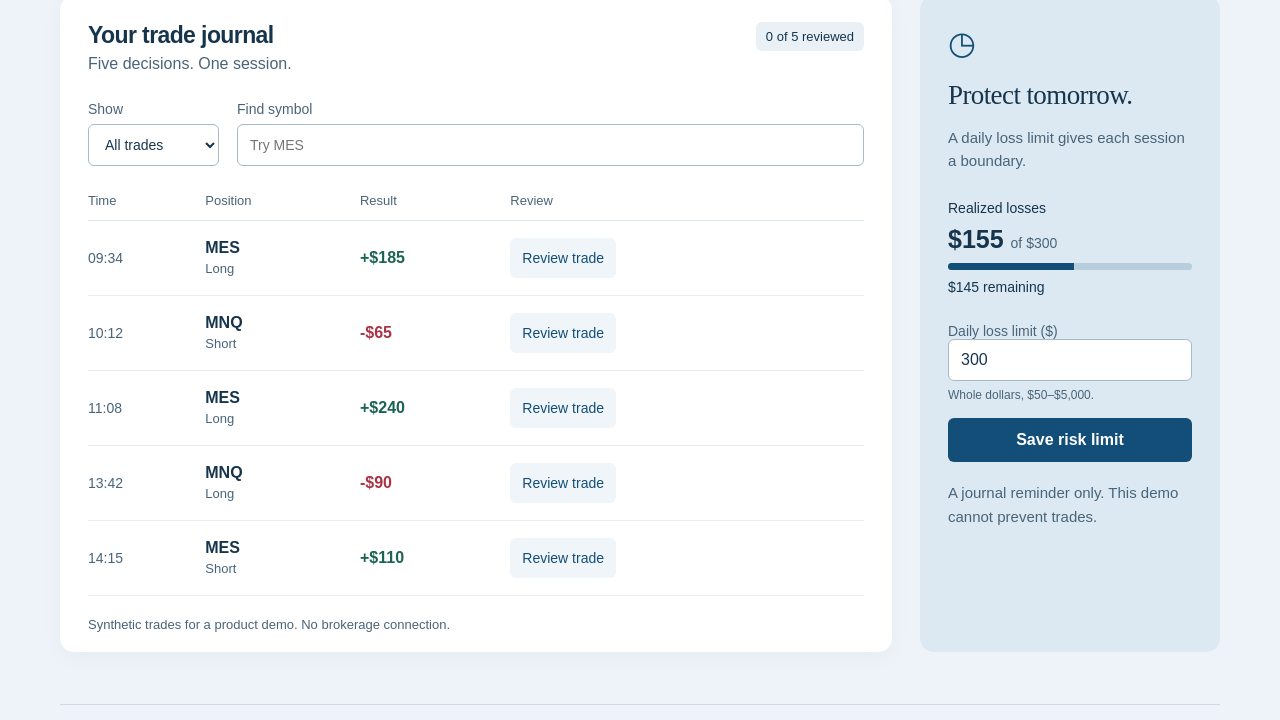
Session journal › saves risk limit and shows boundary
(page scrolled)
Replace the text in the field labelled "Daily loss limit ($)" with "100" at (1070, 360), box [948, 339, 1192, 381]
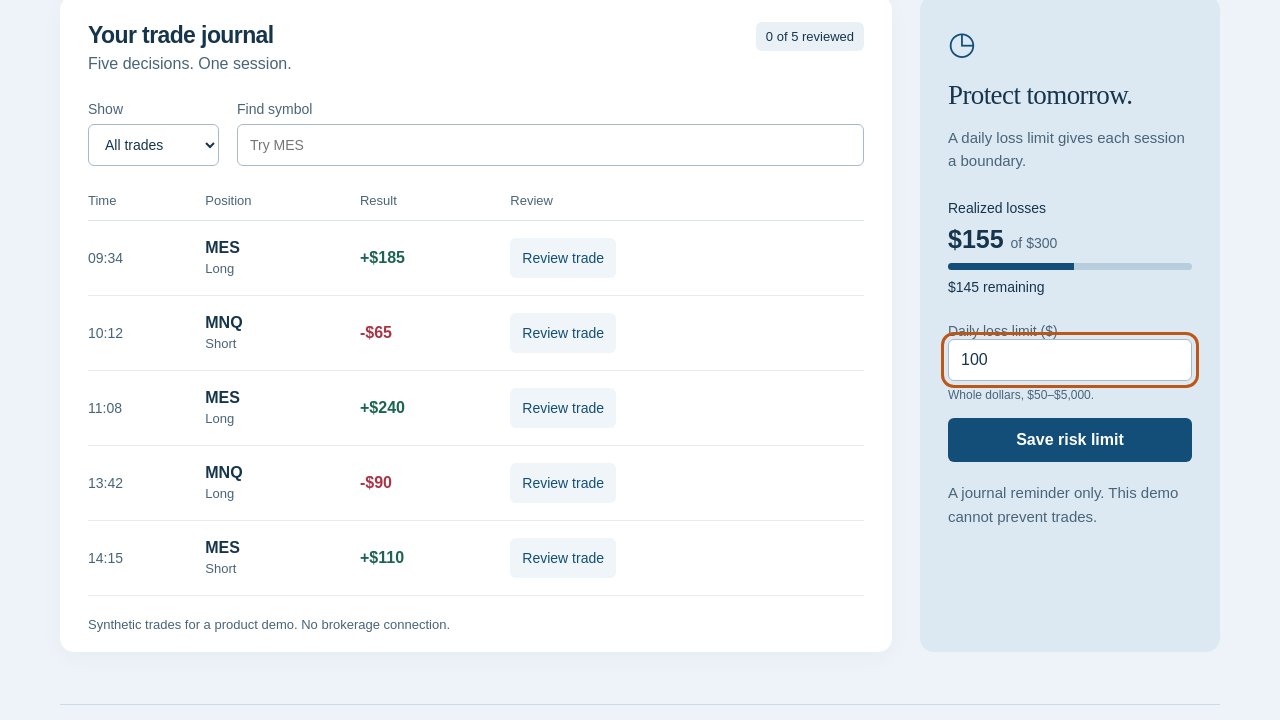
Click the button "Save risk limit" at (1070, 440), box [948, 418, 1192, 462]
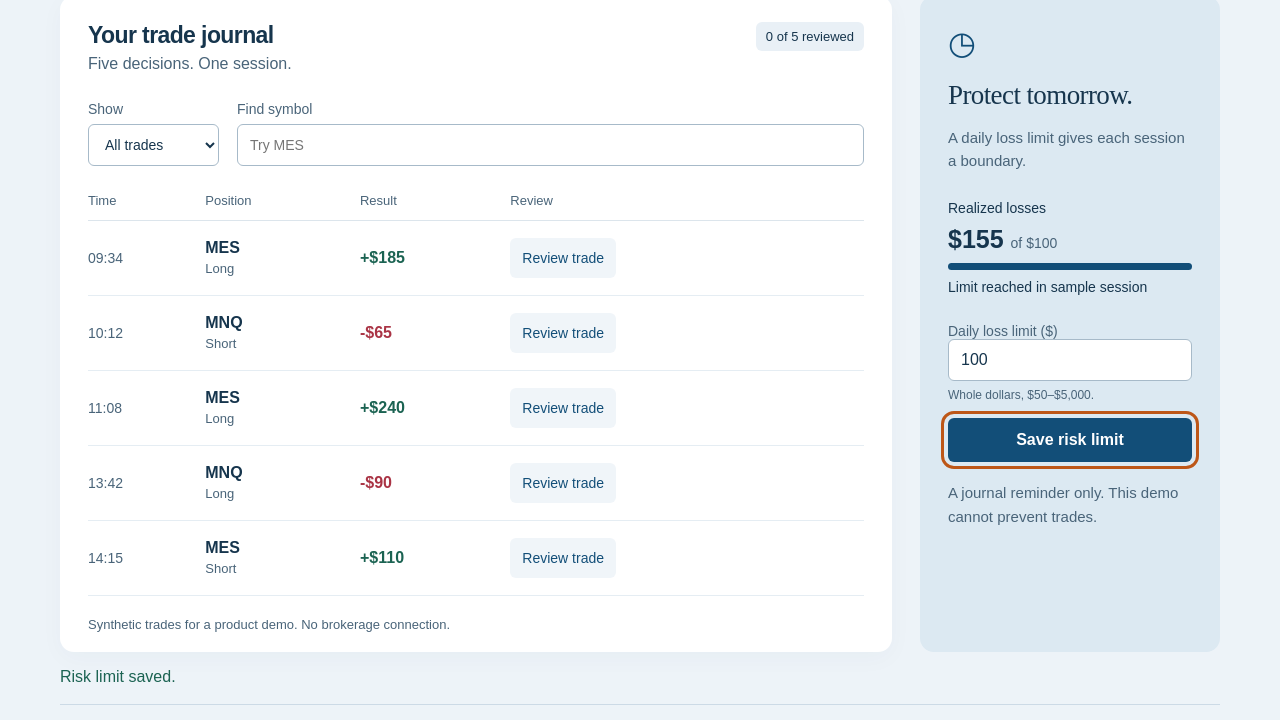
Expected: the message reads "Risk limit saved.", [60, 668, 176, 685]
Expected: the text "Limit reached in sample session" is shown, [948, 279, 1147, 295]
